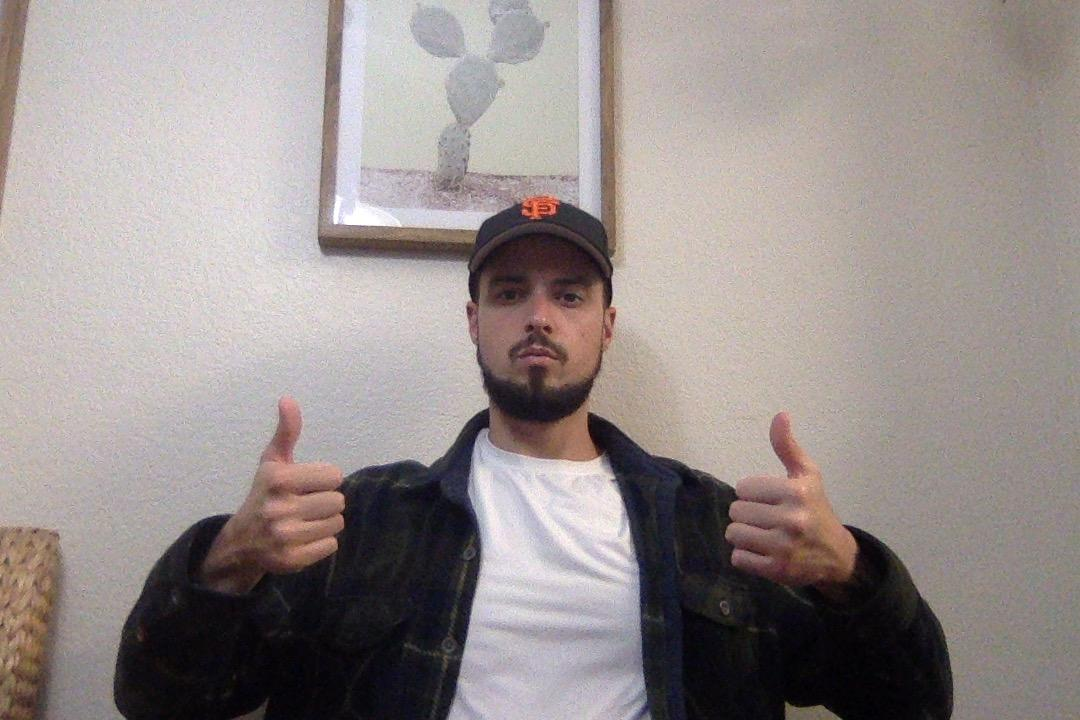Thumbs-Up: (705, 400, 861, 601), (210, 398, 361, 592)
